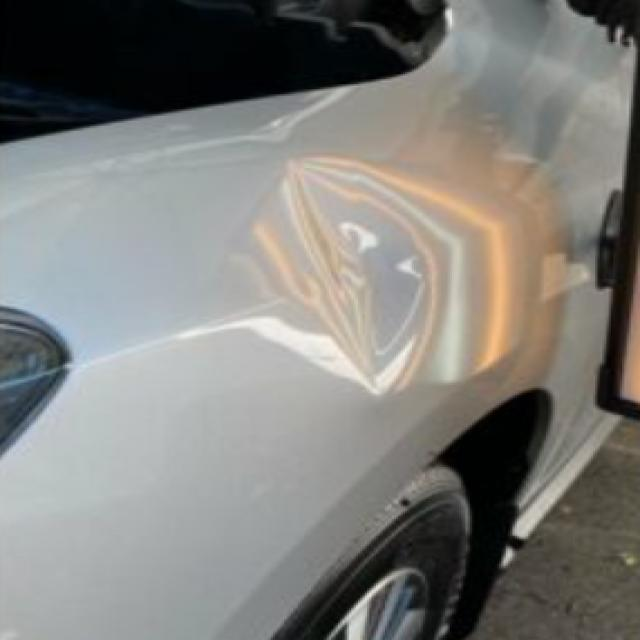dents: (242, 152, 461, 398)
